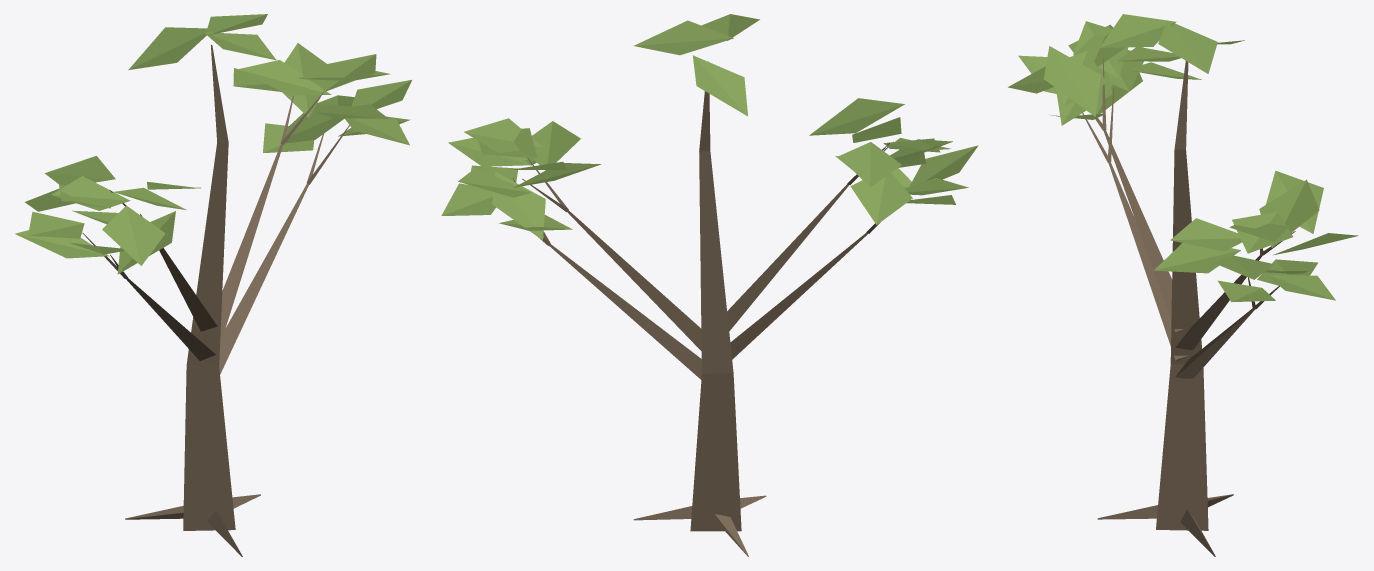
Rendered from oak-sapling-lod2.glb.
3 views of the same model, side by side, from view 1: azimuth 30°, elevation 25°; view 2: azimuth 150°, elevation 25°; view 3: azimuth 270°, elevation 25° (orthographic). The views are drawn at different scales.
Visible parts, largest first — view 1: understory_oak-sapling_LOD2; view 2: understory_oak-sapling_LOD2; view 3: understory_oak-sapling_LOD2.
Part boxes in pixels (left/top/right/bottom): understory_oak-sapling_LOD2: left=15, top=14, right=411, bottom=556; understory_oak-sapling_LOD2: left=441, top=14, right=978, bottom=556; understory_oak-sapling_LOD2: left=1008, top=14, right=1358, bottom=556.
Size of the model in its own units: 2.21 by 2.3 by 1.46.
